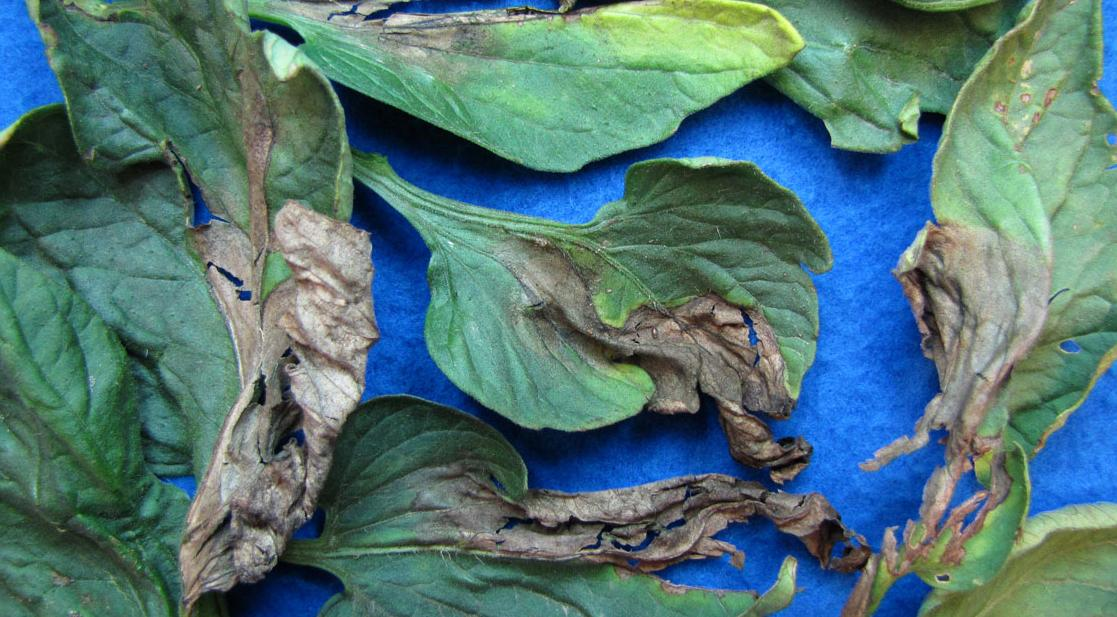Tomato leaf late blight: (0, 0, 383, 528), (870, 0, 1117, 556), (243, 388, 841, 617), (375, 151, 846, 431), (239, 0, 778, 166)
